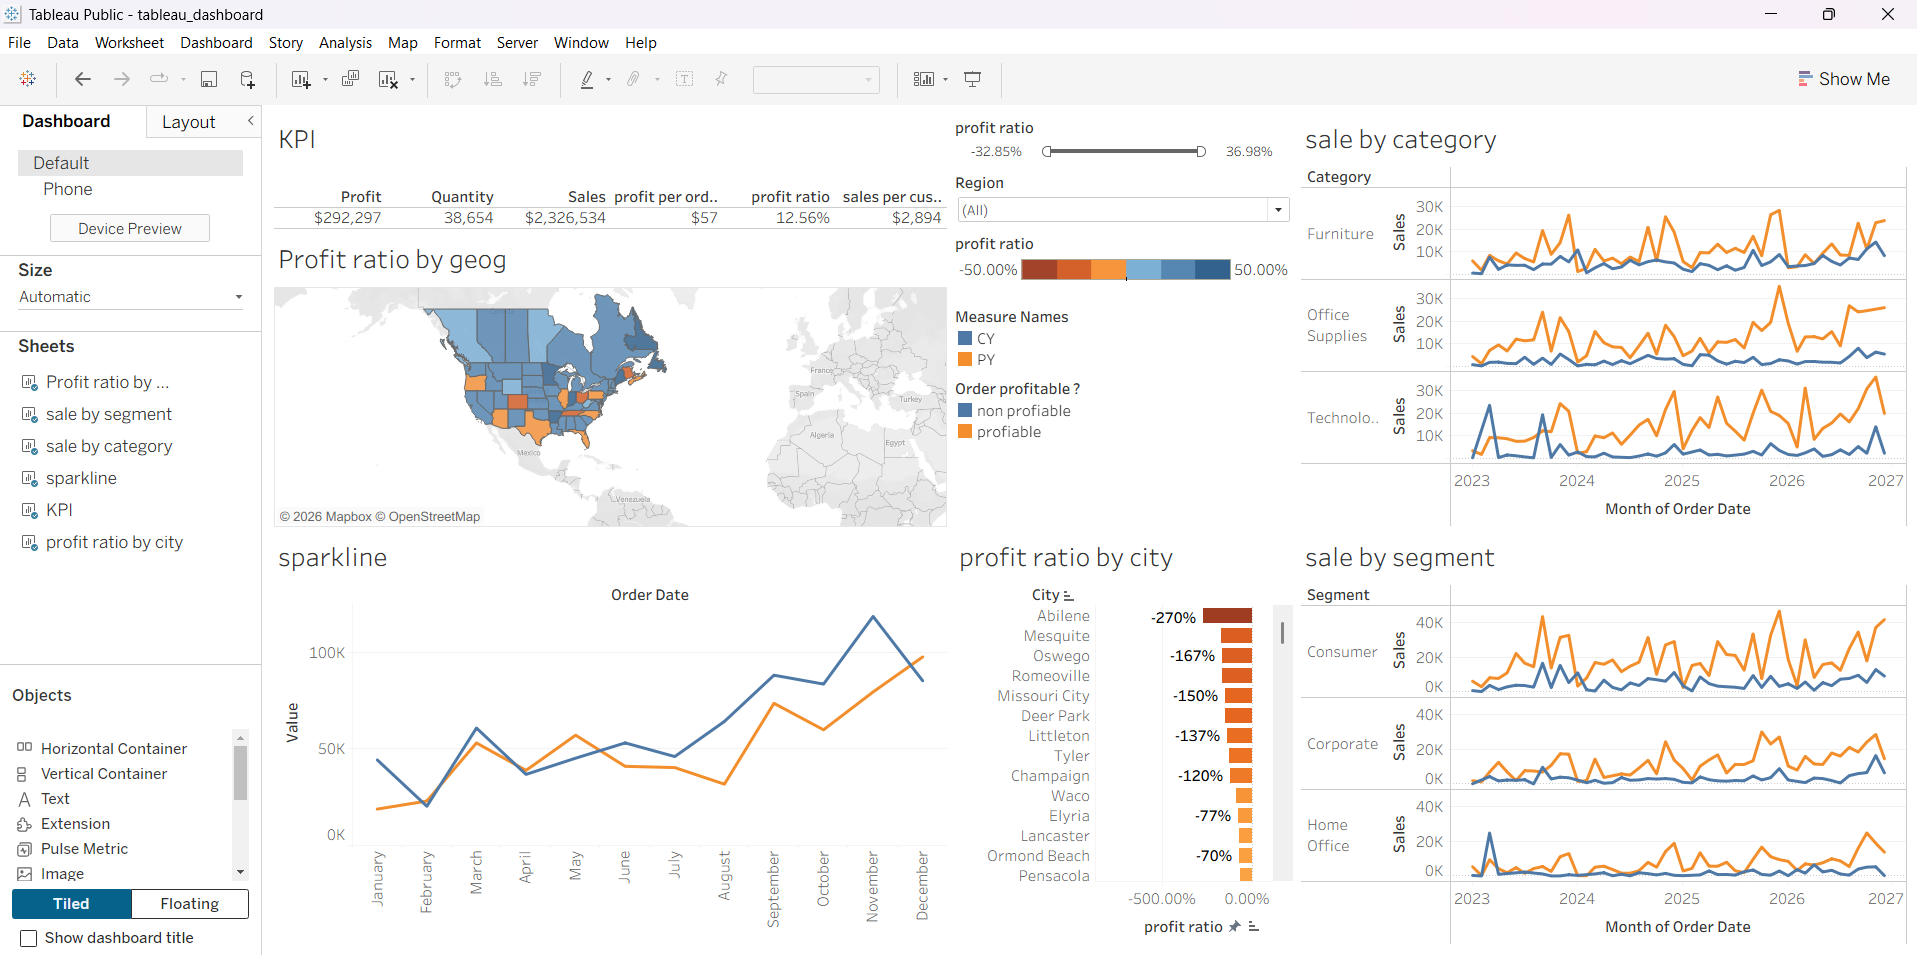

The page's visual inventory and layout, read from the dashboard file:
{"tool":"tableau","page":{"name":"sales executive","canvas":[1000,1000],"units":"permille","ordinal":0},"visuals":[{"type":"worksheet","title":"KPI","mark":"Automatic","box":[4.8,9.4,411,141]},{"type":"filter","title":"Profit ratio by geog","param":"[federated.1r3lgcg00nnnpz106da2u1mqlv7h].[usr:Calculation_0498675602907136:qk]","box":[415.8,9.4,208.8,64.6]},{"type":"worksheet","title":"sale by category","mark":"Automatic","rows":["Category","Sales"],"cols":["Order Date"],"box":[624.6,9.4,370.6,490.6]},{"type":"filter","title":"Profit ratio by geog","param":"[federated.1r3lgcg00nnnpz106da2u1mqlv7h].[none:Region:nk]","box":[415.8,74,208.8,71.7]},{"type":"legend","title":"Profit ratio by geog","param":"[federated.1r3lgcg00nnnpz106da2u1mqlv7h].[usr:Calculation_0498675602907136:qk]","box":[415.8,145.7,208.8,85.8]},{"type":"worksheet","title":"Profit ratio by geog","mark":"Automatic","box":[4.8,150.4,411,349.6]},{"type":"legend","title":"sparkline","param":"[federated.1r3lgcg00nnnpz106da2u1mqlv7h].[:Measure Names]","box":[415.8,231.5,208.8,84.6]},{"type":"legend","title":"sale by category","param":"[federated.1r3lgcg00nnnpz106da2u1mqlv7h].[none:Calculation_0498675609194497:nk]","box":[415.8,316.1,208.8,84.6]},{"type":"worksheet","title":"sparkline","mark":"Automatic","cols":["Order Date"],"box":[4.8,500,411,490.6]},{"type":"worksheet","title":"sale by segment","mark":"Automatic","rows":["Segment","Sales"],"cols":["Order Date"],"box":[624.6,500,370.6,490.6]},{"type":"worksheet","title":"profit ratio by city","mark":"Automatic","rows":["City"],"cols":["Calculation_0498675602907136"],"box":[415.8,500.6,208.8,490]}]}

Visuals, with their boxes on the dashboard's canvas, which has no fixed pixel size, in thousandths of its width and height (x1, y1, x2, y2). These are canvas units, not pixel positions in the 1917x955 screenshot, which may show the page scaled, cropped or inside an application window:
"KPI" worksheet: 5:9:416:150
"Profit ratio by geog" filter: 416:9:625:74
"sale by category" worksheet: 625:9:995:500
"Profit ratio by geog" filter: 416:74:625:146
"Profit ratio by geog" legend: 416:146:625:232
"Profit ratio by geog" worksheet: 5:150:416:500
"sparkline" legend: 416:232:625:316
"sale by category" legend: 416:316:625:401
"sparkline" worksheet: 5:500:416:991
"sale by segment" worksheet: 625:500:995:991
"profit ratio by city" worksheet: 416:501:625:991
